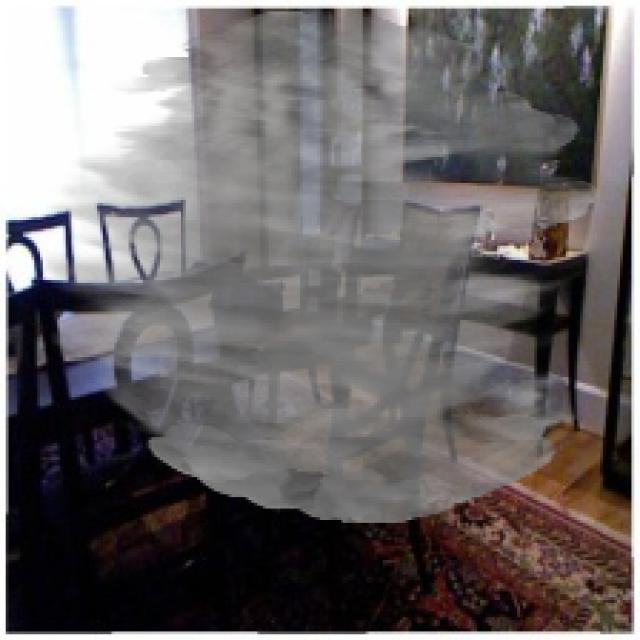smoke: (46, 8, 600, 523)
